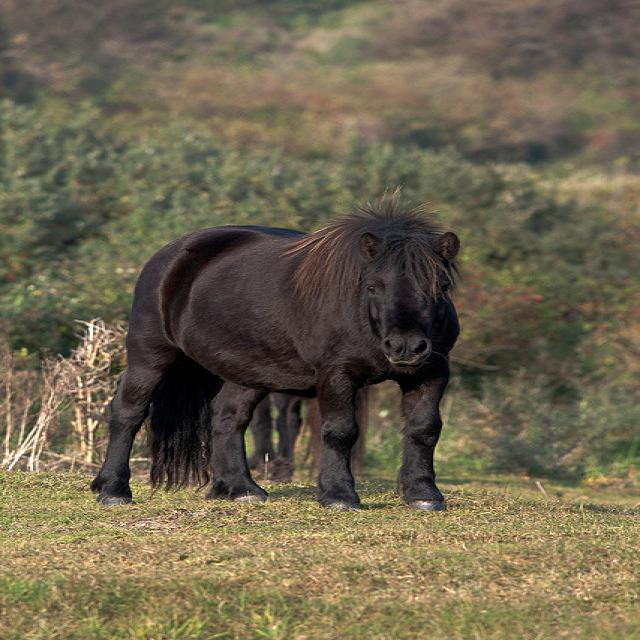horse: (90, 181, 466, 511), (245, 386, 373, 483)
